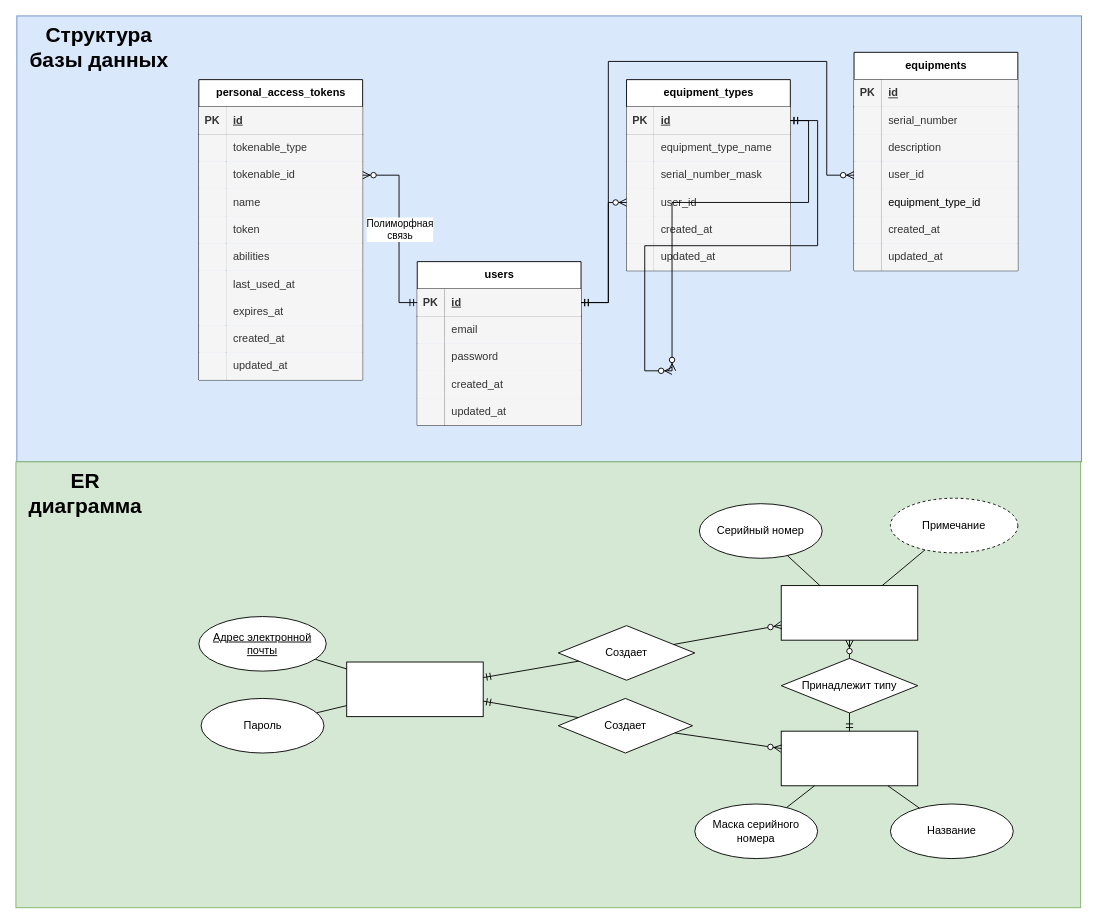
Image size: 1097x924. Some labels were removed from this diagram. Each missing label, with the centre of its shape:
"Оборудование" belongs at (849,612).
"Пользователь" belongs at (414,689).
"Тип оборудования" belongs at (849,758).
